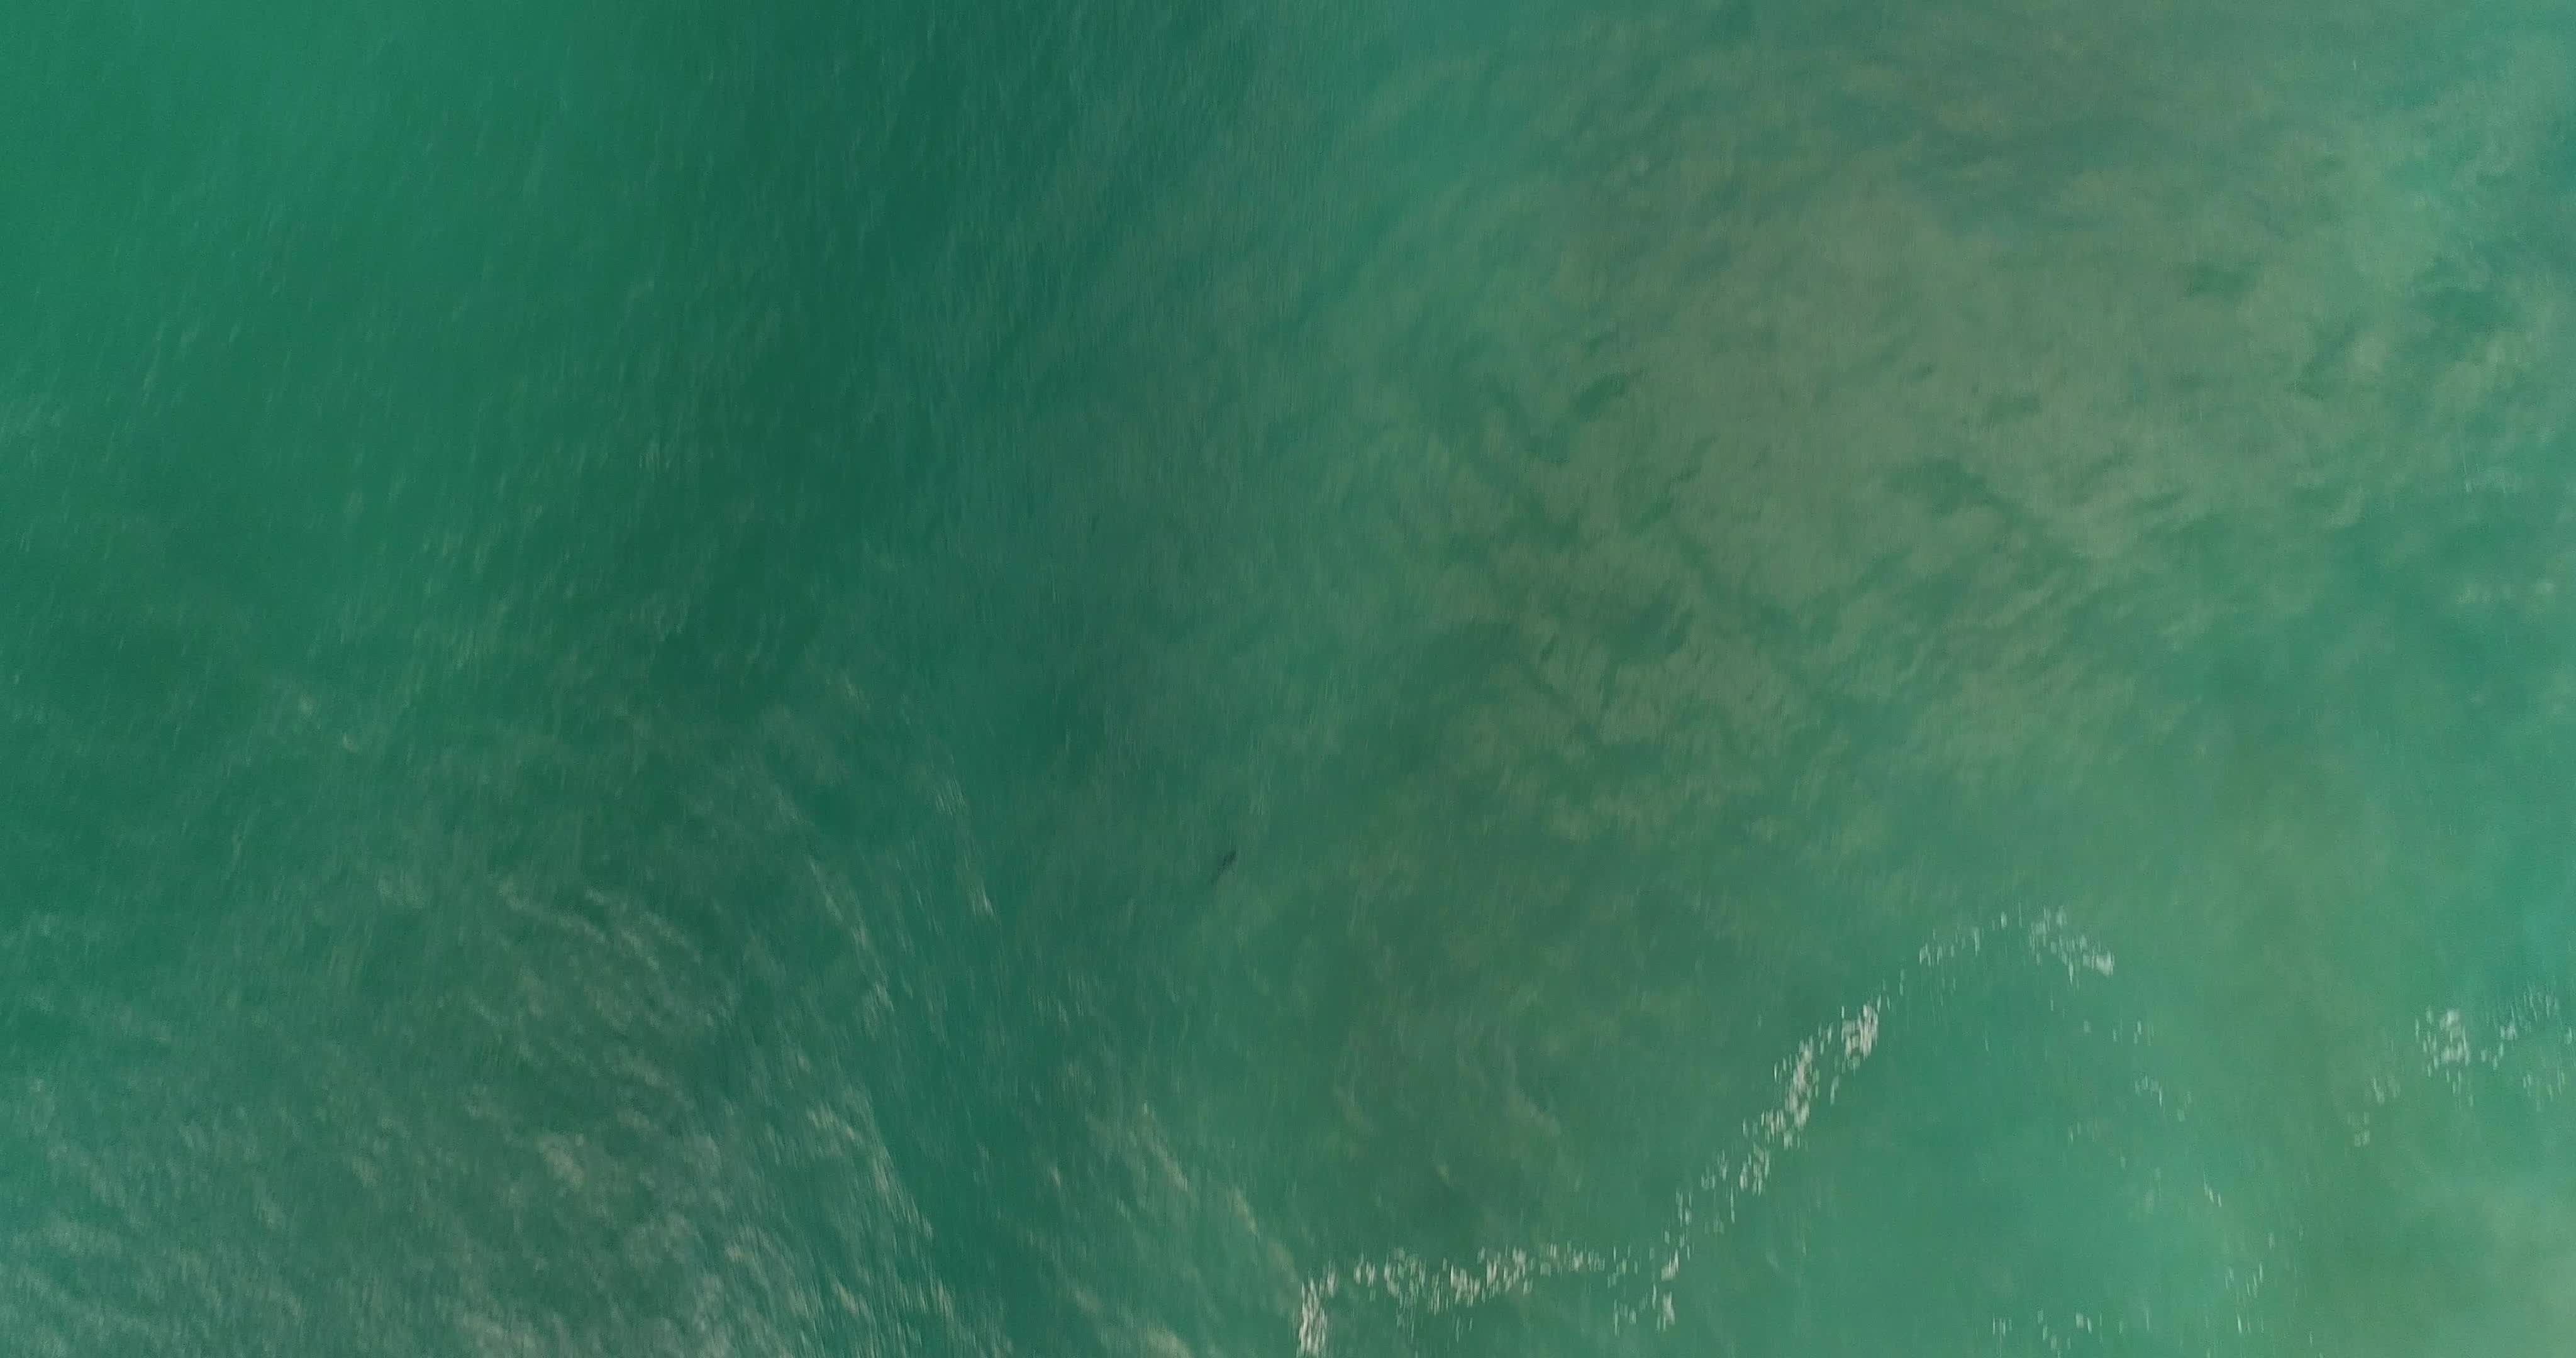shark: (1206, 845, 1245, 888)
